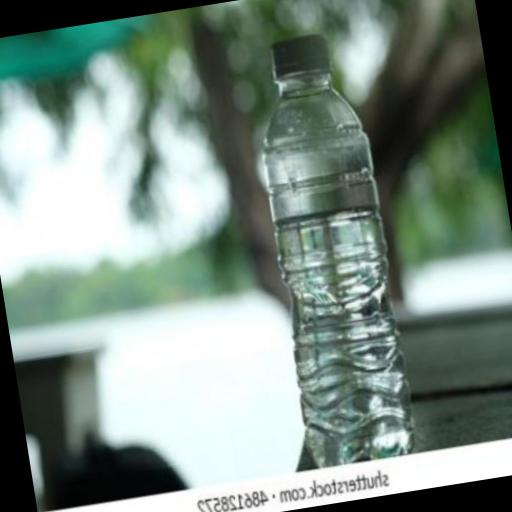Coca: (234, 11, 428, 480)
